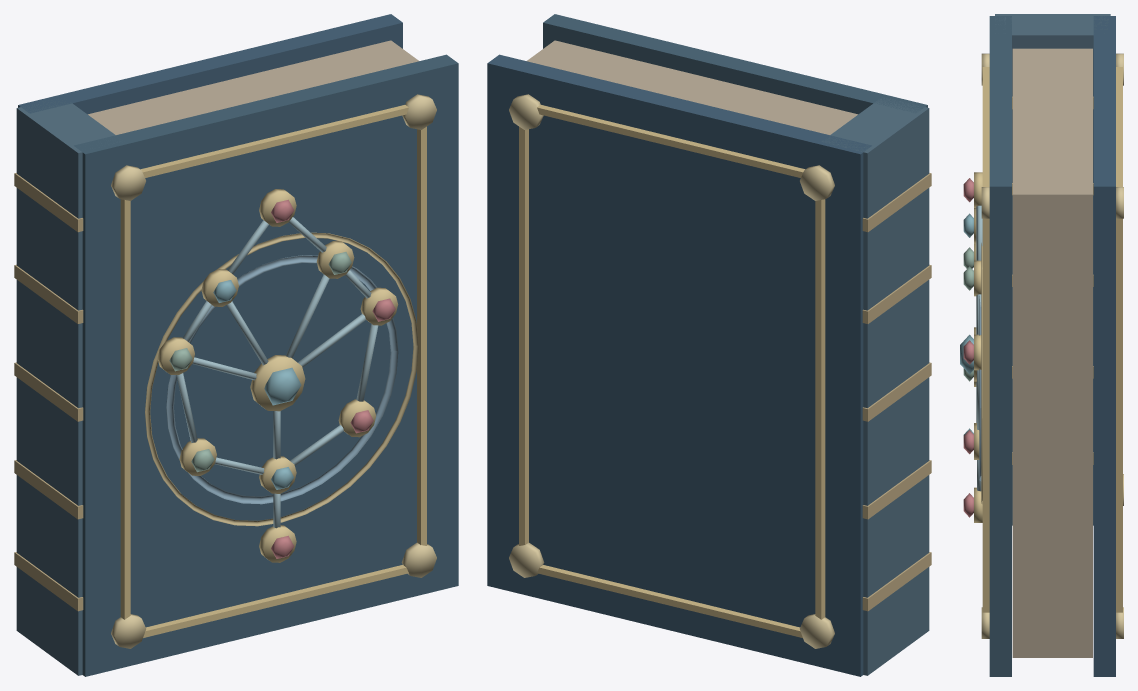
Rendered from ART-07.glb.
The picture shows the model from 3 angles, left to right: view 1: azimuth 30°, elevation 25°; view 2: azimuth 150°, elevation 25°; view 3: azimuth 270°, elevation 25°; orthographic projection. The views are drawn at different scales.
Parts seen in each view (by area): view 1: world; view 2: world; view 3: world.
Boxes of the visible parts, x1,y1,x2,y2 form: world: [14, 14, 458, 676]; world: [487, 14, 931, 676]; world: [960, 14, 1123, 676].
Bounding box in the file's own units: 1.52 × 2 × 0.6053.
